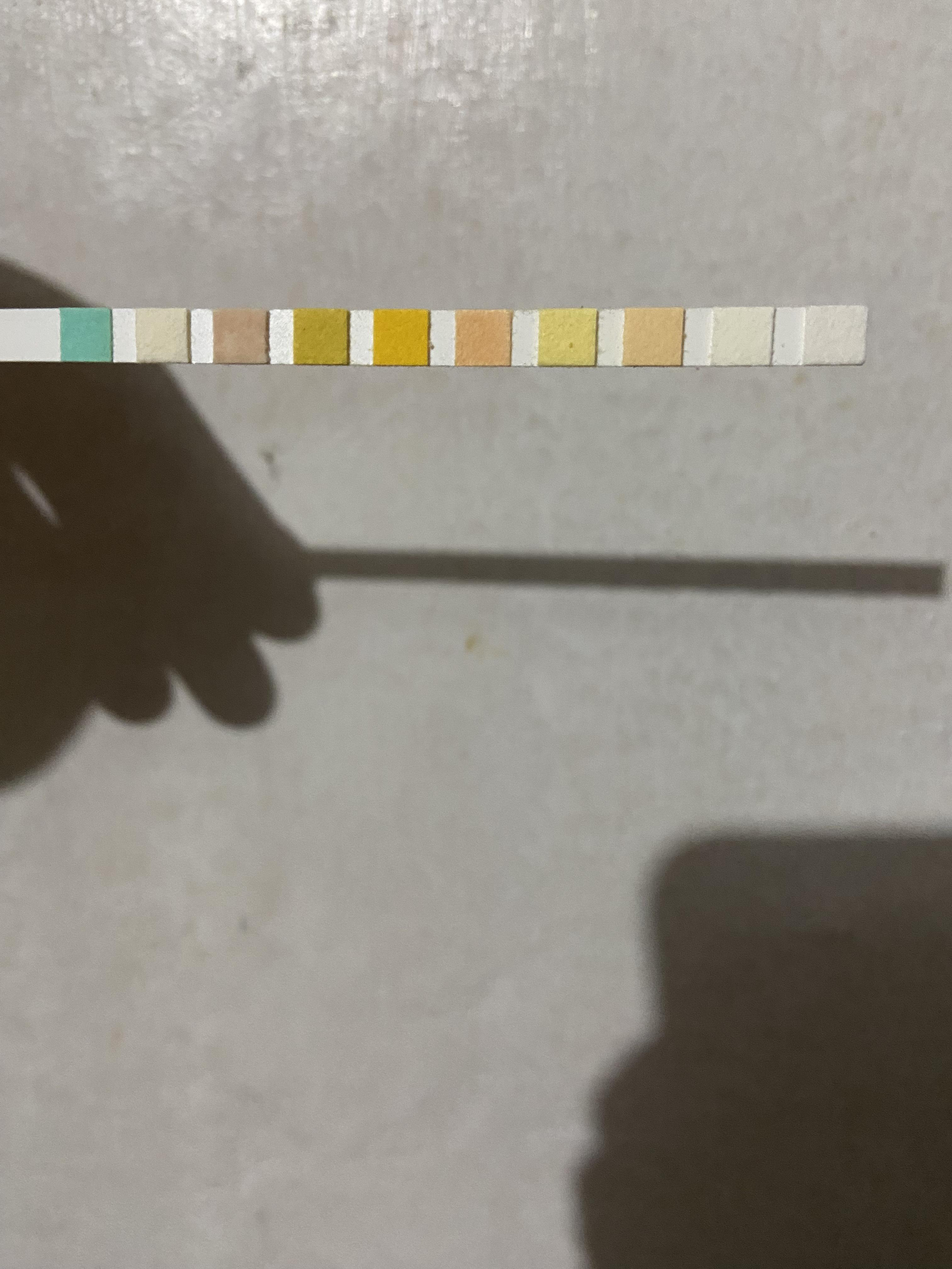Bilirubin: (139, 311, 185, 359)
Blood: (377, 313, 425, 363)
Glucose: (63, 310, 108, 359)
Ketone: (216, 313, 263, 361)
Leukocytes: (811, 310, 860, 361)
Nitrite: (717, 311, 769, 363)
Protein: (543, 312, 593, 364)
SpGravity: (297, 312, 346, 361)
Urobilinogen: (628, 313, 680, 364)
pH: (459, 314, 506, 363)
strip: (0, 309, 867, 365)
